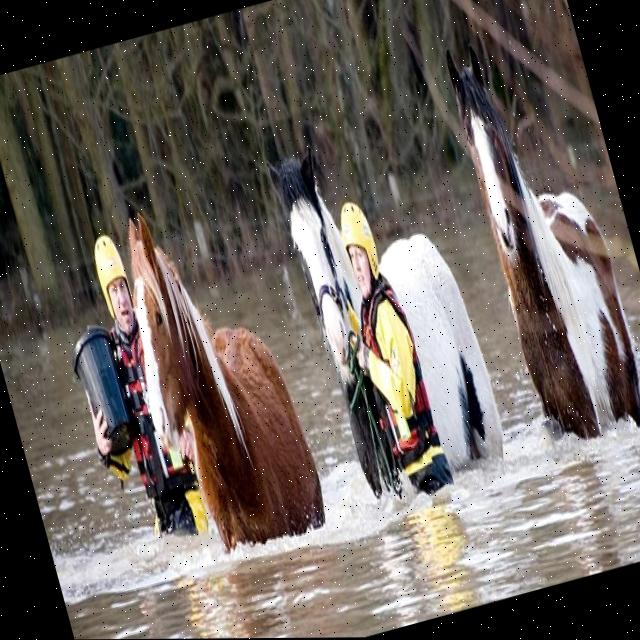horse: (254, 101, 526, 529), (92, 163, 359, 580), (422, 5, 640, 474)
rescuer: (312, 187, 472, 525), (56, 218, 206, 572)
